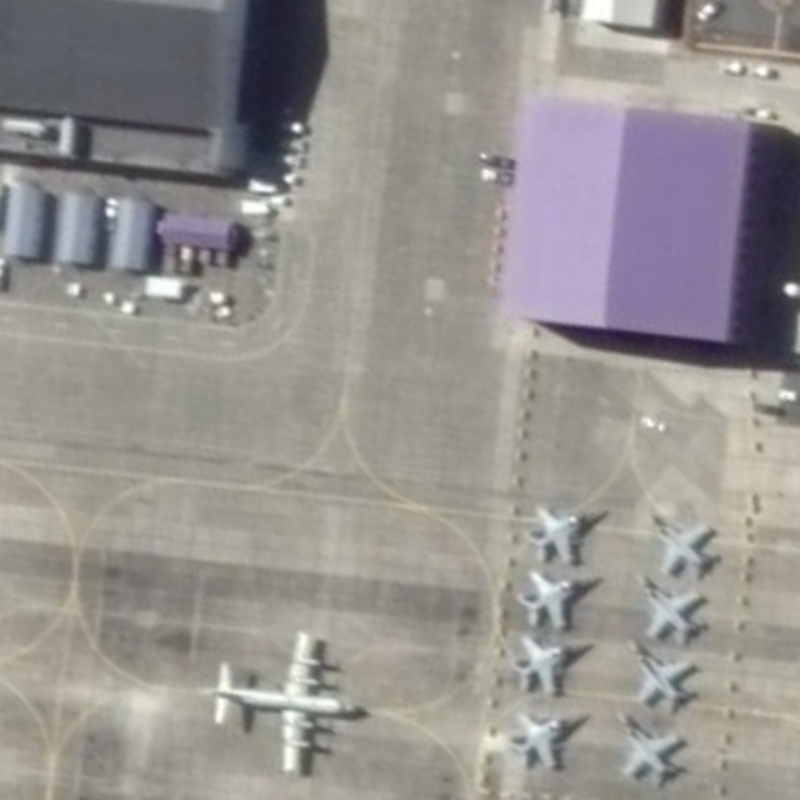A16: (624, 634, 703, 719), (500, 703, 593, 775), (613, 706, 692, 790), (522, 499, 613, 569), (505, 632, 597, 700), (513, 566, 607, 631), (646, 510, 726, 582), (635, 573, 710, 648)
A9: (192, 622, 374, 779)
